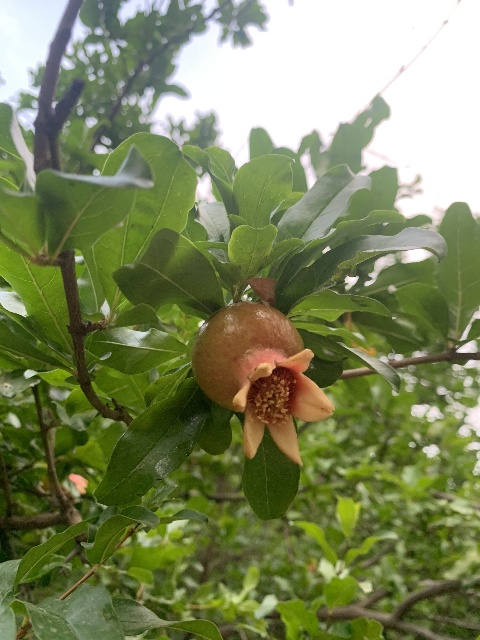early-fruit: (191, 302, 334, 466)
